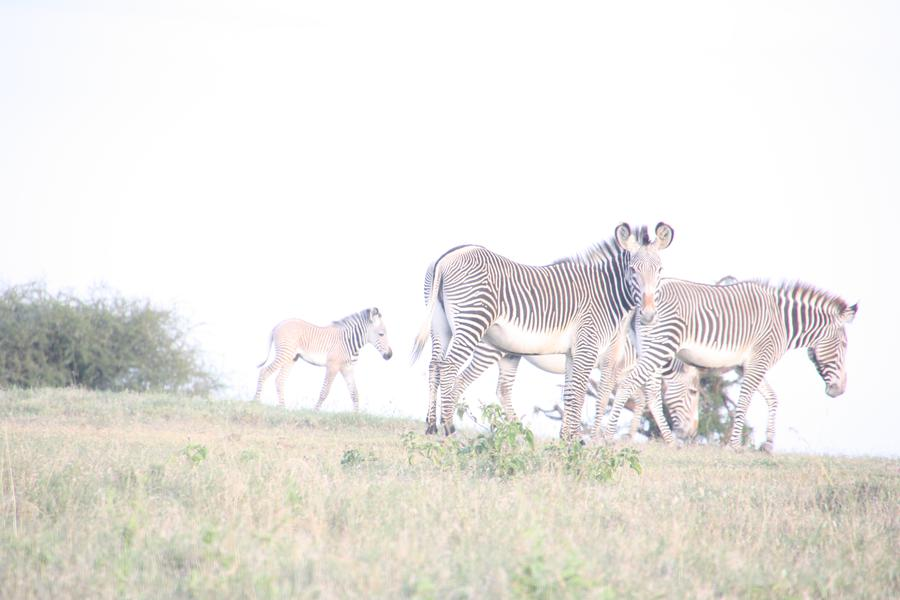zebra_grevys: (440, 246, 606, 345), (665, 279, 774, 360)
